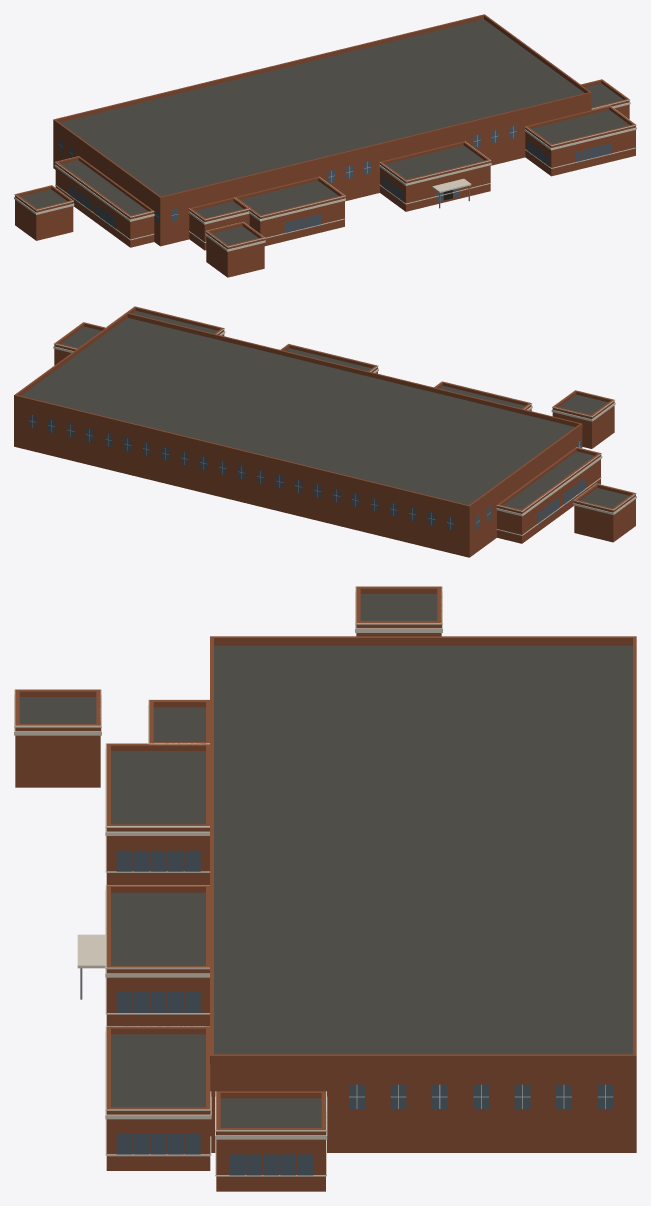
Rendered from fulbright-elementary.glb.
3 views of the same model, one above another, from view 1: azimuth 30°, elevation 25°; view 2: azimuth 150°, elevation 25°; view 3: azimuth 270°, elevation 25° (orthographic). The views are drawn at different scales.
Visible parts, largest first — view 1: fulbright_elementary; view 2: fulbright_elementary; view 3: fulbright_elementary.
Part boxes in pixels (box(x1,y1,x2,y2)): fulbright_elementary: box(14, 14, 636, 277); fulbright_elementary: box(14, 306, 636, 557); fulbright_elementary: box(14, 586, 636, 1191).
Size of the model in its own units: 106 by 8.8 by 51.16.
